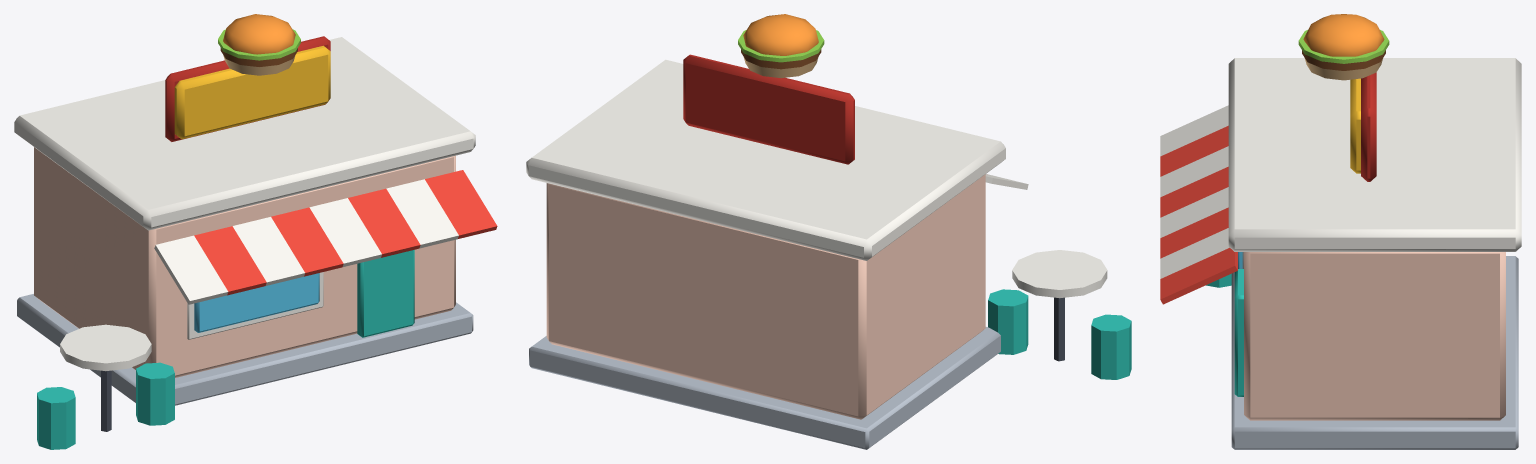
Rendered from home_diner.fbx.
The picture shows the model from 3 angles, left to right: view 1: azimuth 30°, elevation 25°; view 2: azimuth 150°, elevation 25°; view 3: azimuth 270°, elevation 25°; orthographic projection. The views are drawn at different scales.
Visible parts, largest first — view 1: home_diner; view 2: home_diner; view 3: home_diner.
Boxes of the visible parts, x1,y1,x2,y2 form: home_diner: (14, 14, 497, 449); home_diner: (526, 14, 1131, 449); home_diner: (1160, 14, 1521, 449).
Bounding box in the file's own units: 1.79 × 1.22 × 1.16.
